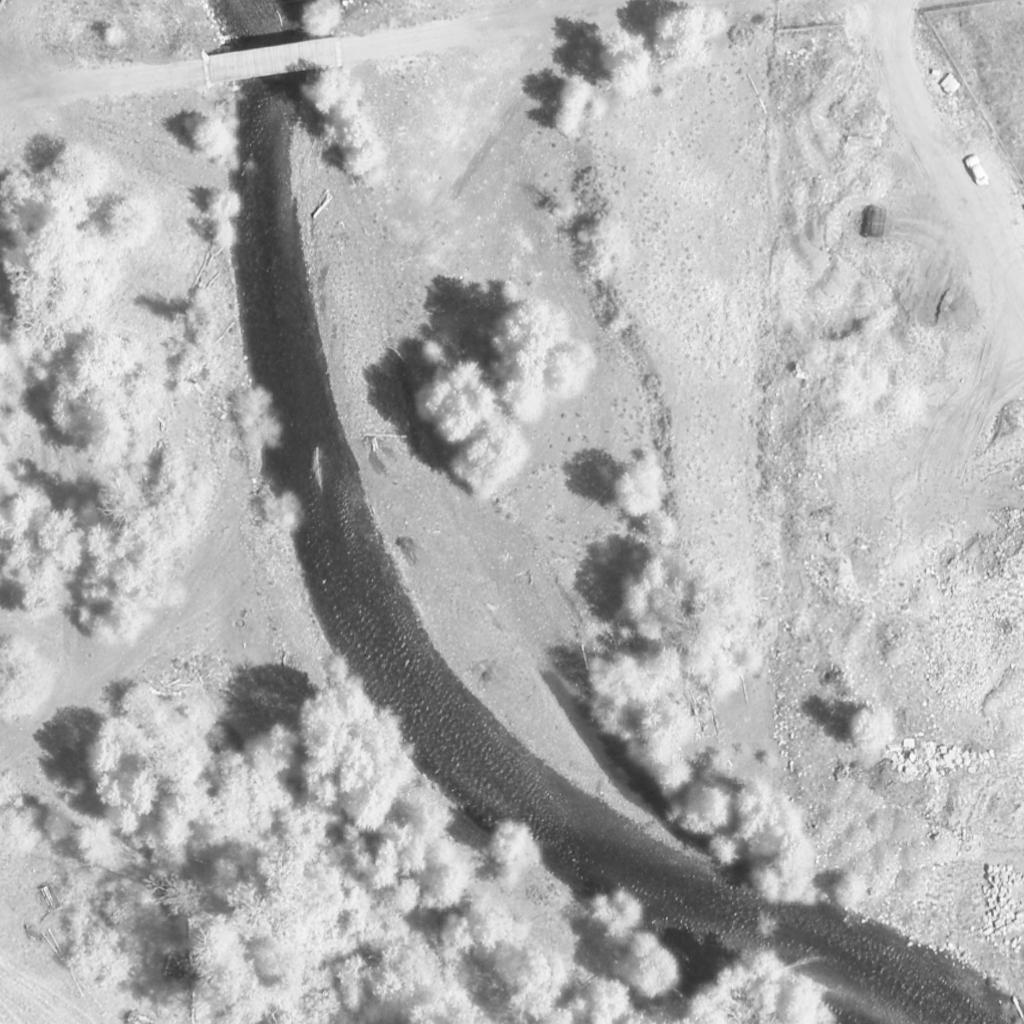vehicle: (964, 155, 992, 187)
